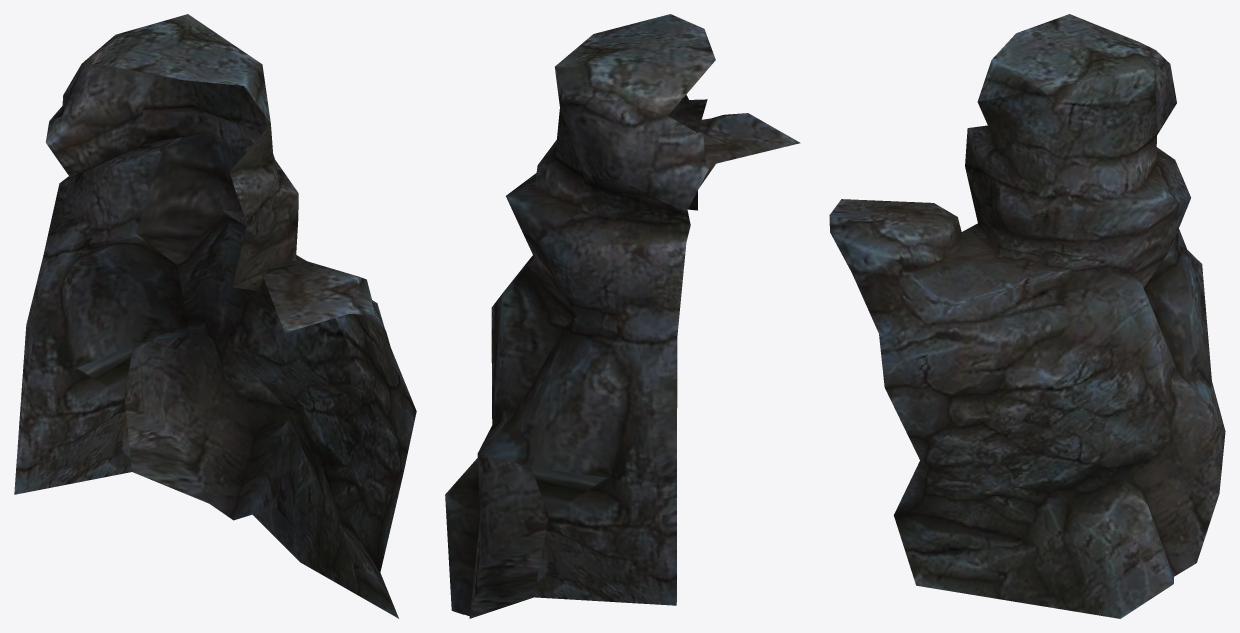
File: S_Rock_Yellow034_22.FBX
3 views of the same model, side by side, from view 1: azimuth 30°, elevation 25°; view 2: azimuth 150°, elevation 25°; view 3: azimuth 270°, elevation 25° (orthographic). The views are drawn at different scales.
Parts seen in each view (by area): view 1: S_Rock_Yellow034_22; view 2: S_Rock_Yellow034_22; view 3: S_Rock_Yellow034_22.
Part boxes in pixels (x1=…): S_Rock_Yellow034_22: x1=14, y1=14, x2=416, y2=618; S_Rock_Yellow034_22: x1=445, y1=14, x2=800, y2=618; S_Rock_Yellow034_22: x1=829, y1=14, x2=1225, y2=618.
Size of the model in its own units: 138 by 212 by 301.
